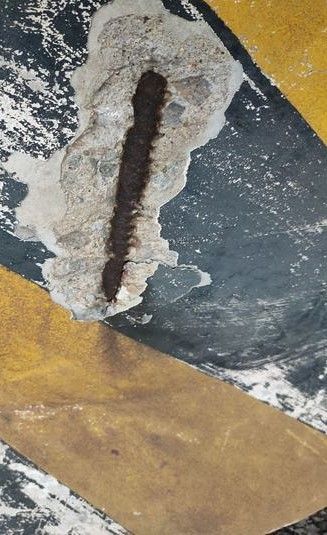Exposed reinforcement: (99, 71, 167, 304)
Spalling: (1, 1, 245, 324)
